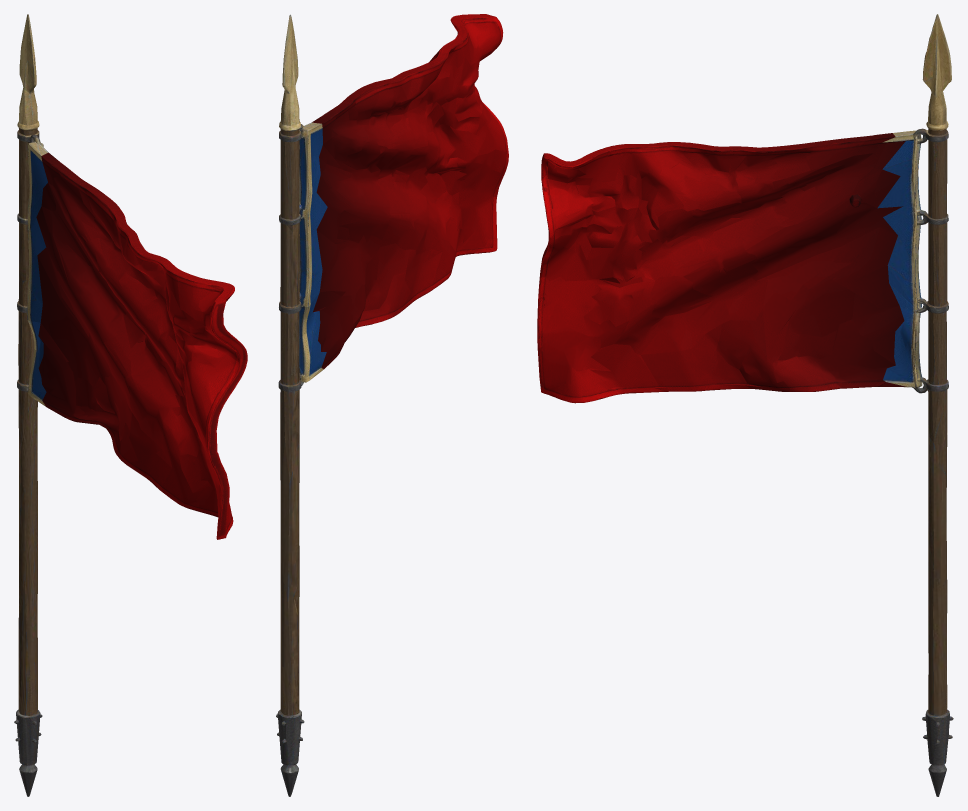
The model's file is banner.glb.
3 renders of one model, left to right at view 1: azimuth 30°, elevation 25°; view 2: azimuth 150°, elevation 25°; view 3: azimuth 270°, elevation 25°, orthographic.
Visible parts, largest first — view 1: Banner_Flag, Banner.001; view 2: Banner_Flag, Banner.001; view 3: Banner_Flag, Banner.001.
Boxes of the visible parts, x1,y1,x2,y2 form: Banner_Flag: (36, 152, 247, 539); Banner.001: (14, 14, 48, 796); Banner_Flag: (312, 14, 508, 368); Banner.001: (276, 14, 327, 796); Banner_Flag: (537, 133, 907, 403); Banner.001: (877, 14, 953, 796).
Bounding box in the file's own units: 0.1878 × 3 × 1.45.
Materials: 2 (2 with a texture image).
